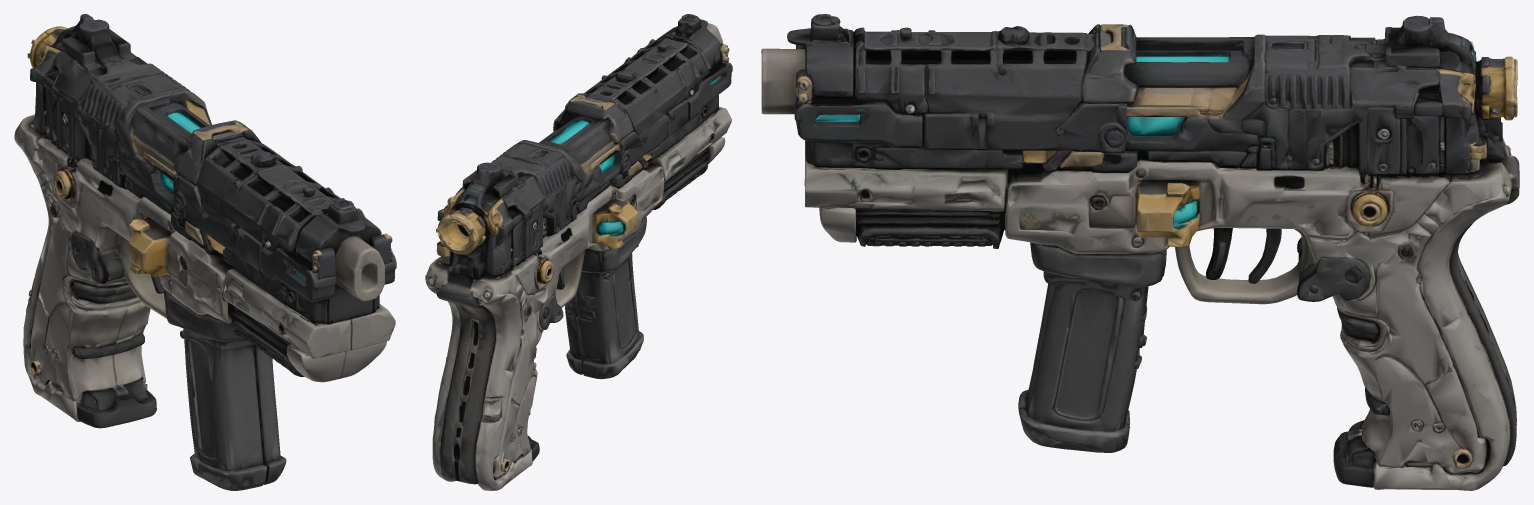
File: hp_viewmodel_sidearm_scripted_derived.glb
The picture shows the model from 3 angles, left to right: view 1: azimuth 30°, elevation 25°; view 2: azimuth 150°, elevation 25°; view 3: azimuth 270°, elevation 25°; orthographic projection. The views are drawn at different scales.
Visible parts, largest first — view 1: sidearm_scripted_derived_visual_body; view 2: sidearm_scripted_derived_visual_body; view 3: sidearm_scripted_derived_visual_body.
Boxes of the visible parts, left/top/right/bottom form: sidearm_scripted_derived_visual_body: left=14, top=14, right=396, bottom=490; sidearm_scripted_derived_visual_body: left=425, top=14, right=732, bottom=490; sidearm_scripted_derived_visual_body: left=761, top=14, right=1519, bottom=490.
Bounding box in the file's own units: 0.2431 × 0.6473 × 0.9785.
1 material, 1 textured.
